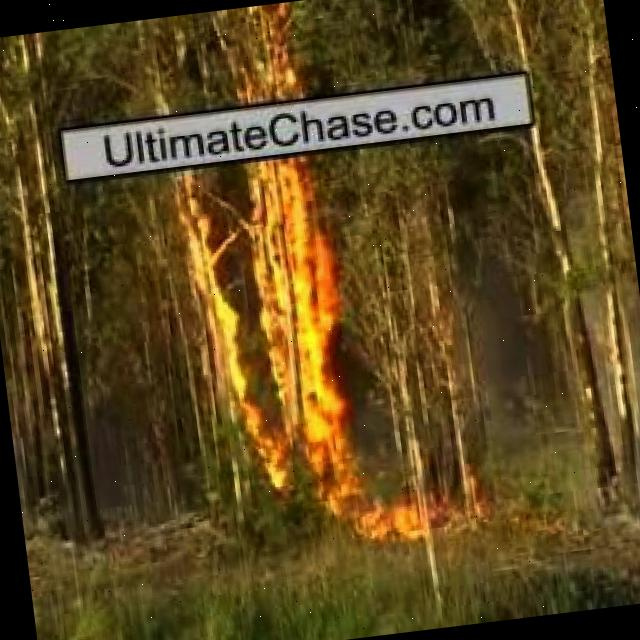fire: (166, 152, 378, 490), (316, 472, 438, 563), (223, 15, 304, 102)
